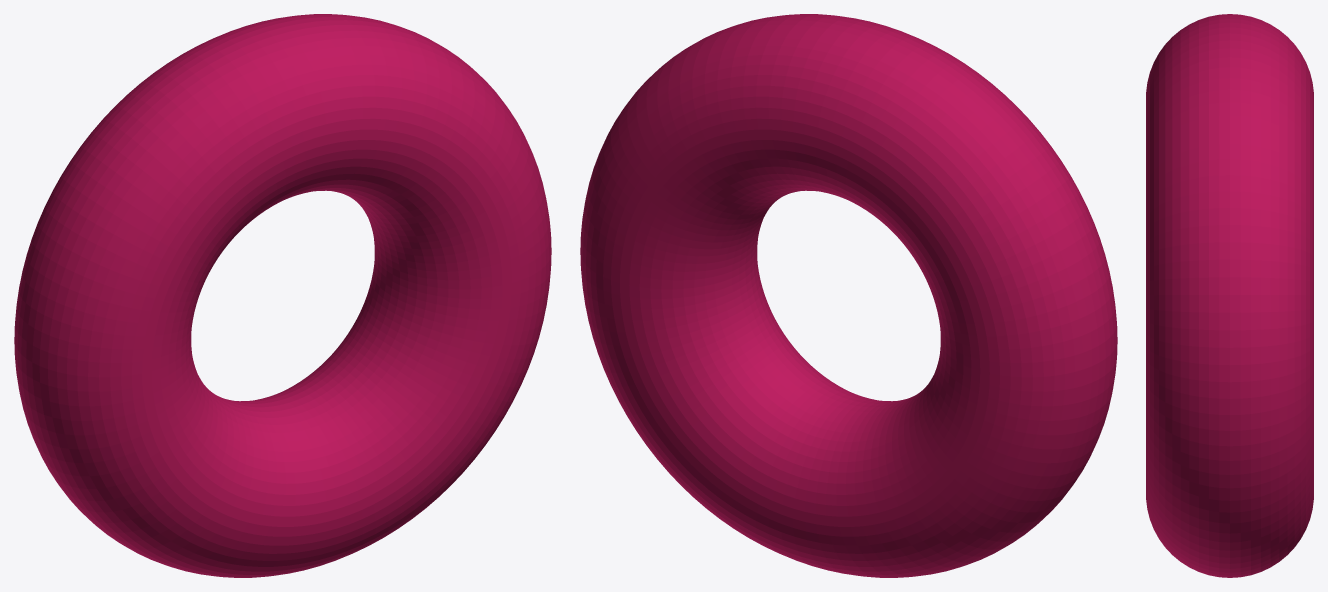
3 renders of one model, left to right at view 1: azimuth 30°, elevation 25°; view 2: azimuth 150°, elevation 25°; view 3: azimuth 270°, elevation 25°, orthographic. The views are drawn at different scales.
Parts seen in each view (by area): view 1: world; view 2: world; view 3: world.
Part boxes in pixels (x1,y1,x2,y2): world: (14, 14, 551, 577); world: (580, 14, 1117, 577); world: (1146, 14, 1313, 577).
Size of the model in its own units: 22.8 by 22.8 by 6.79.
